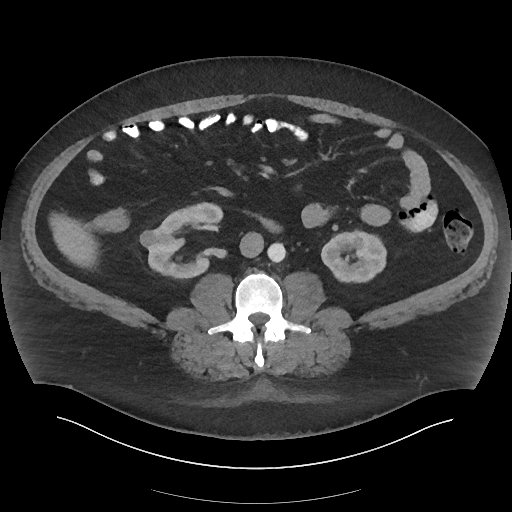Lesion: (139, 226, 160, 249)
